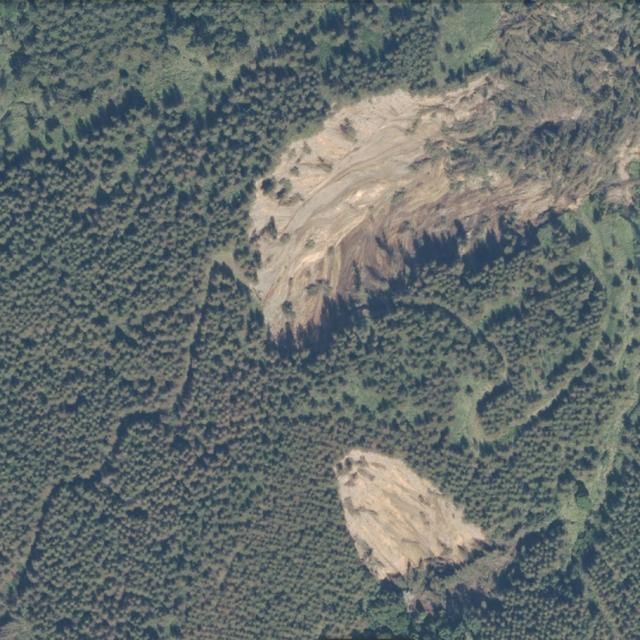landslide: (248, 2, 640, 338), (335, 450, 487, 581)
